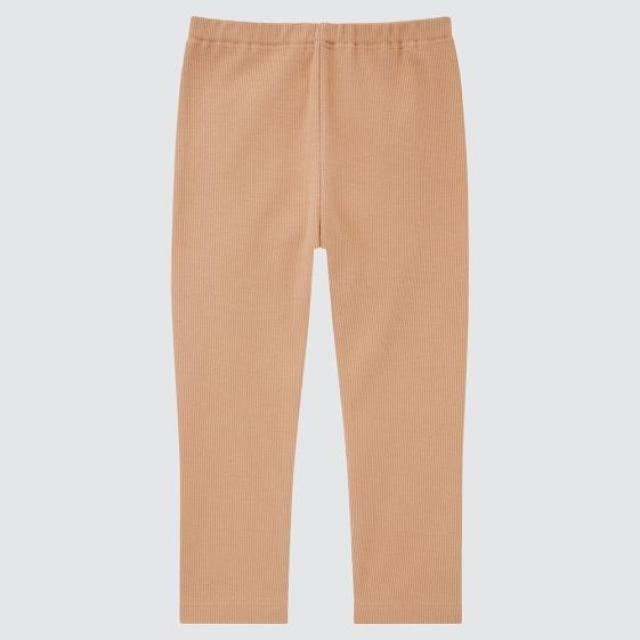long-pants: (170, 17, 471, 629)
